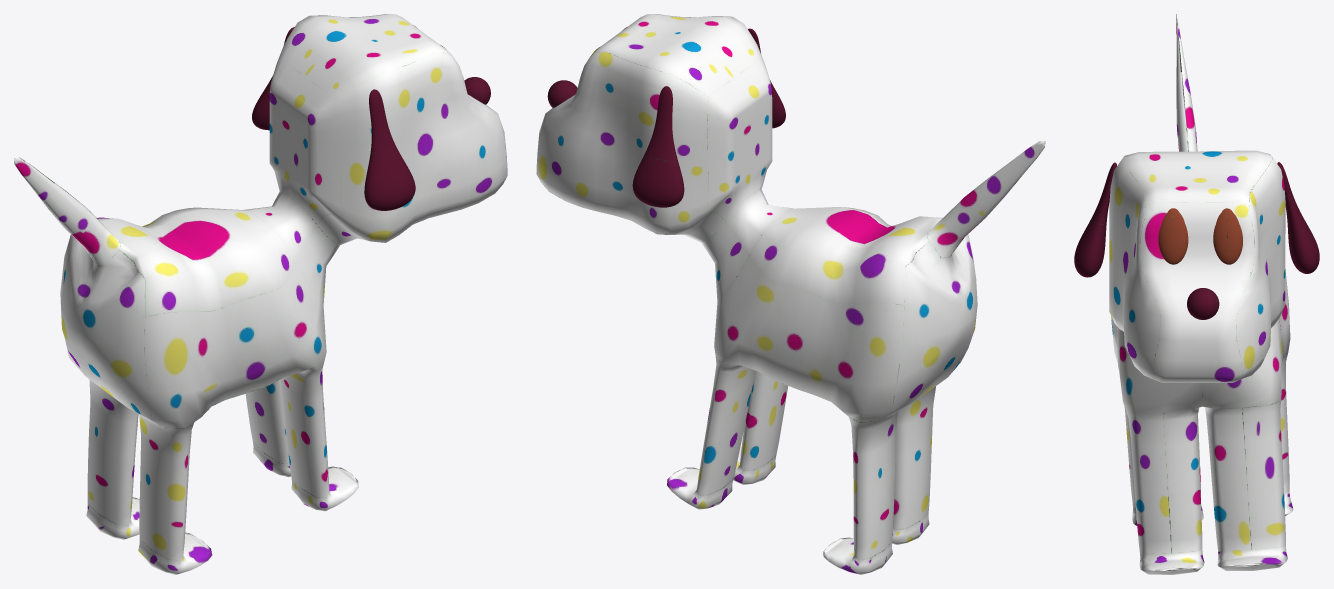
The model's file is perrito.FBX.
3 views of the same model, side by side, from view 1: azimuth 30°, elevation 25°; view 2: azimuth 150°, elevation 25°; view 3: azimuth 270°, elevation 25° (orthographic).
Parts seen in each view (by area): view 1: Box001; view 2: Box001; view 3: Box001.
Boxes of the visible parts, bbox=[...] form: Box001: bbox=[14, 14, 507, 574]; Box001: bbox=[536, 14, 1045, 574]; Box001: bbox=[1074, 14, 1319, 574].
Size of the model in its own units: 34.94 by 31.9 by 15.31.
Materials: 1 (1 with a texture image).
